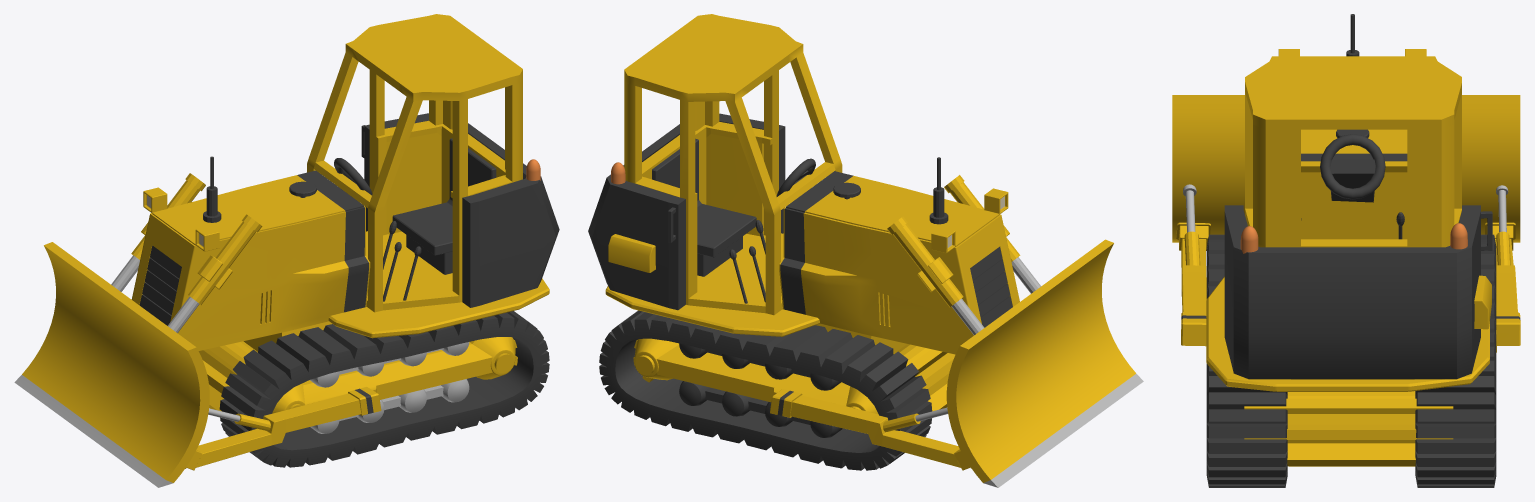
The model's file is bulldozer.glb.
The picture shows the model from 3 angles, left to right: view 1: azimuth 30°, elevation 25°; view 2: azimuth 150°, elevation 25°; view 3: azimuth 270°, elevation 25°; orthographic projection. The views are drawn at different scales.
Parts seen in each view (by area): view 1: bulldozer; view 2: bulldozer; view 3: bulldozer.
Boxes of the visible parts, box(x1,y1,x2,y2) form: bulldozer: box(14, 14, 559, 487); bulldozer: box(588, 14, 1143, 487); bulldozer: box(1172, 14, 1520, 487).
Size of the model in its own units: 1.4 by 0.9941 by 0.8065.
